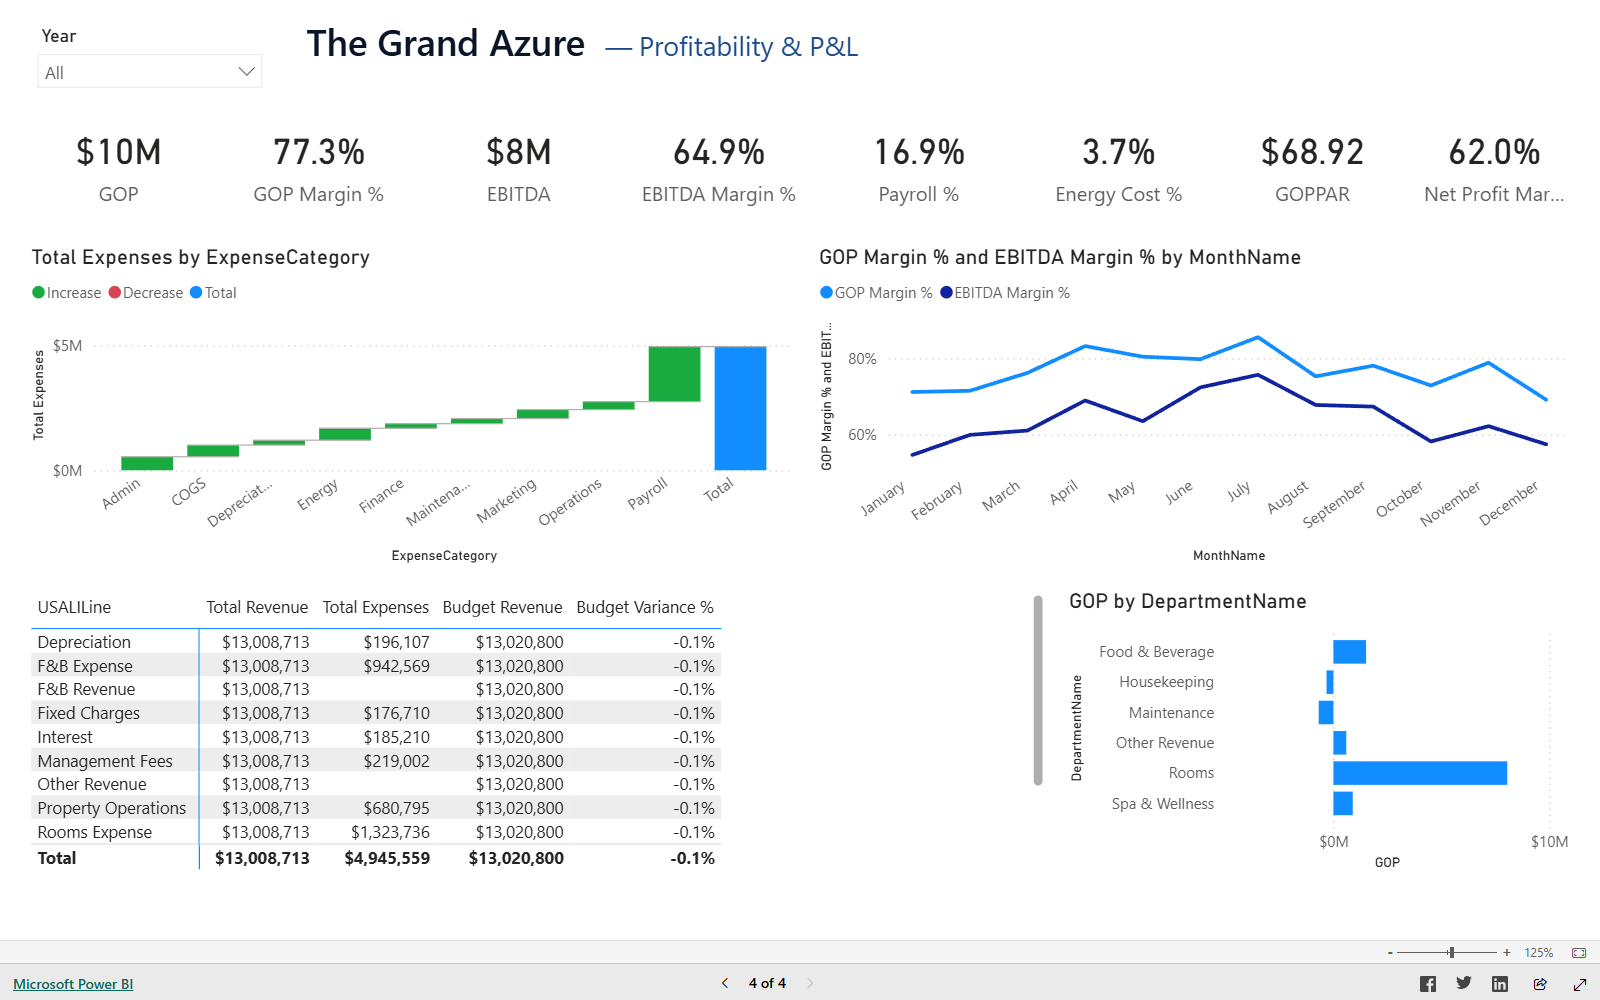

This screenshot's page, from the dashboard's own definition file:
{"tool":"powerbi","page":{"name":"Profitability & P&L","canvas":[1280,720],"ordinal":3},"visuals":[{"type":"card","fields":{"Values":["_Measures.GOP"]},"box":[20,80,150,100],"z":0},{"type":"card","fields":{"Values":["_Measures.GOP Margin %"]},"box":[180,80,150,100],"z":1},{"type":"card","fields":{"Values":["_Measures.EBITDA"]},"box":[340,80,150,100],"z":2},{"type":"card","fields":{"Values":["_Measures.EBITDA Margin %"]},"box":[500,80,150,100],"z":3},{"type":"card","fields":{"Values":["_Measures.Payroll %"]},"box":[660,80,150,100],"z":4},{"type":"card","fields":{"Values":["_Measures.Energy Cost %"]},"box":[820,80,150,100],"z":5},{"type":"card","fields":{"Values":["_Measures.GOPPAR"]},"box":[980,80,140,100],"z":6},{"type":"card","fields":{"Values":["_Measures.Net Profit Margin %"]},"box":[1130,80,130,100],"z":7},{"type":"waterfallChart","fields":{"Category":["Dim_Account.ExpenseCategory"],"Y":["_Measures.Total Expenses"]},"box":[20,195,620,260],"z":8},{"type":"lineChart","fields":{"Category":["Dim_Date.MonthName"],"Y":["_Measures.GOP Margin %","_Measures.EBITDA Margin %"]},"box":[650,195,610,260],"z":9},{"type":"pivotTable","fields":{"Rows":["Dim_Account.USALILine"],"Values":["_Measures.Total Revenue","_Measures.Total Expenses","_Measures.Budget Revenue","_Measures.Budget Variance %"]},"box":[20,470,820,230],"z":10},{"type":"barChart","fields":{"Category":["Dim_Department.DepartmentName"],"Y":["_Measures.GOP"]},"box":[850,470,410,230],"z":11},{"type":"slicer","fields":{"Values":["Dim_Date.Year"]},"box":[19.9,14.8,199.9,58],"z":12}]}

Visuals, with their boxes on the page's 1280x720 design canvas (x1, y1, x2, y2). These are canvas units, not pixel positions in the 1600x1000 screenshot, which may show the page scaled, cropped or inside an application window:
card - _Measures.GOP: [left=20, top=80, right=170, bottom=180]
card - _Measures.GOP Margin %: [left=180, top=80, right=330, bottom=180]
card - _Measures.EBITDA: [left=340, top=80, right=490, bottom=180]
card - _Measures.EBITDA Margin %: [left=500, top=80, right=650, bottom=180]
card - _Measures.Payroll %: [left=660, top=80, right=810, bottom=180]
card - _Measures.Energy Cost %: [left=820, top=80, right=970, bottom=180]
card - _Measures.GOPPAR: [left=980, top=80, right=1120, bottom=180]
card - _Measures.Net Profit Margin %: [left=1130, top=80, right=1260, bottom=180]
waterfallChart - Dim_Account.ExpenseCategory x _Measures.Total Expenses: [left=20, top=195, right=640, bottom=455]
lineChart - Dim_Date.MonthName x _Measures.GOP Margin %: [left=650, top=195, right=1260, bottom=455]
pivotTable - Dim_Account.USALILine x _Measures.Total Revenue: [left=20, top=470, right=840, bottom=700]
barChart - Dim_Department.DepartmentName x _Measures.GOP: [left=850, top=470, right=1260, bottom=700]
slicer - Dim_Date.Year: [left=20, top=15, right=220, bottom=73]
